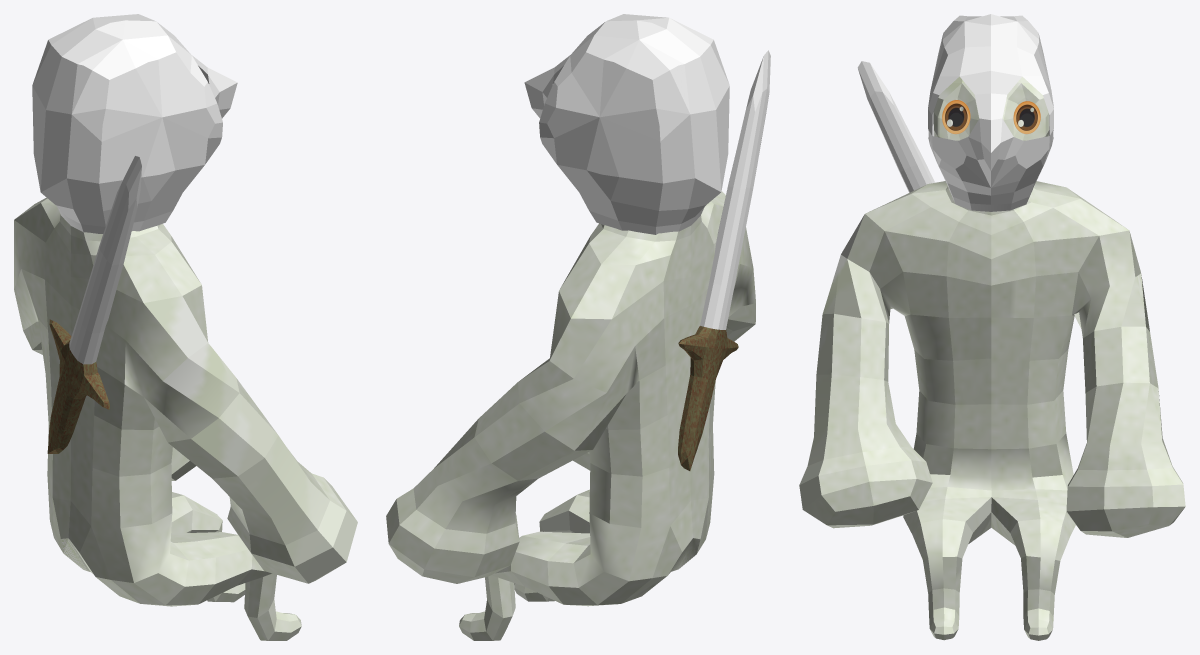
The model's file is Pollo.glb.
3 renders of one model, left to right at view 1: azimuth 30°, elevation 25°; view 2: azimuth 150°, elevation 25°; view 3: azimuth 270°, elevation 25°, orthographic. The views are drawn at different scales.
Parts seen in each view (by area): view 1: Plane.011; view 2: Plane.011; view 3: Plane.011.
Part boxes in pixels (<box>): Plane.011: <box>14,14,357,640</box>; Plane.011: <box>386,14,770,640</box>; Plane.011: <box>799,14,1185,640</box>.
Size of the model in its own units: 1.14 by 2.84 by 1.78.
Materials: 5 (4 with a texture image).
